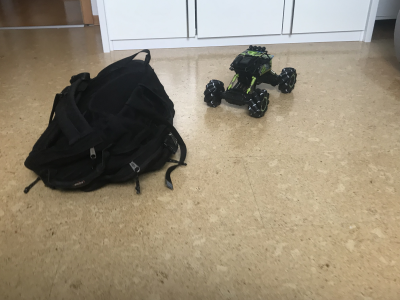remote control car: (202, 41, 299, 118)
